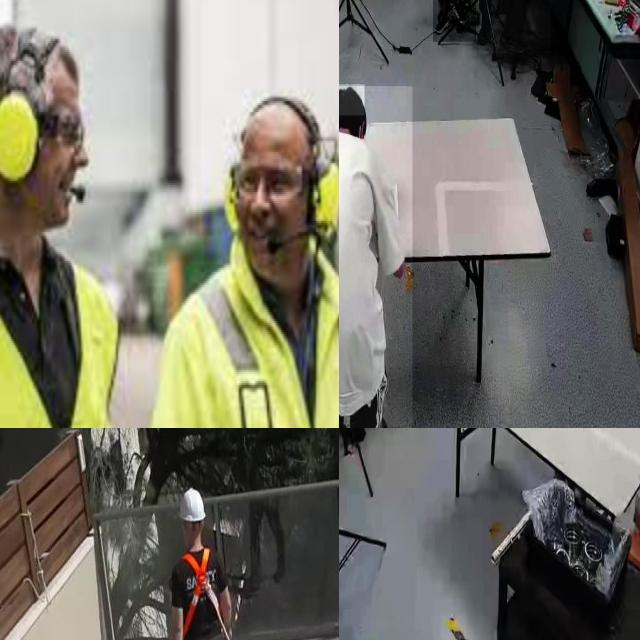Ear-protection: (218, 79, 339, 296), (0, 11, 105, 250)
Harness: (182, 548, 210, 638)
head_nohelmet: (339, 84, 365, 116)
person: (339, 86, 413, 428), (478, 0, 551, 54), (433, 0, 476, 42)
